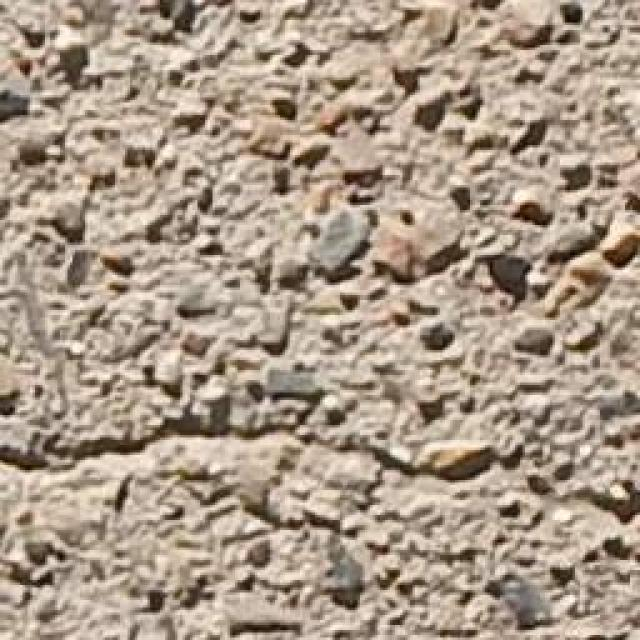concrete-crack: (0, 364, 637, 528)
